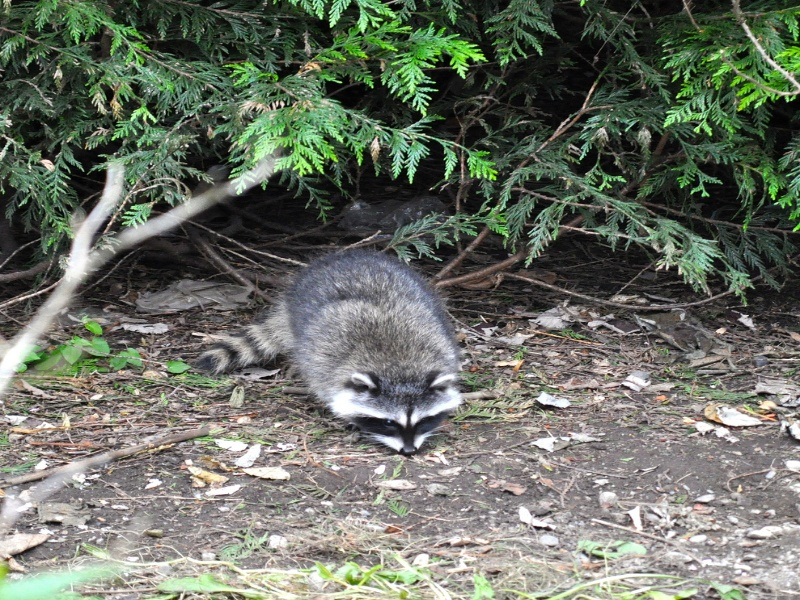raccoon: (203, 254, 466, 456)
